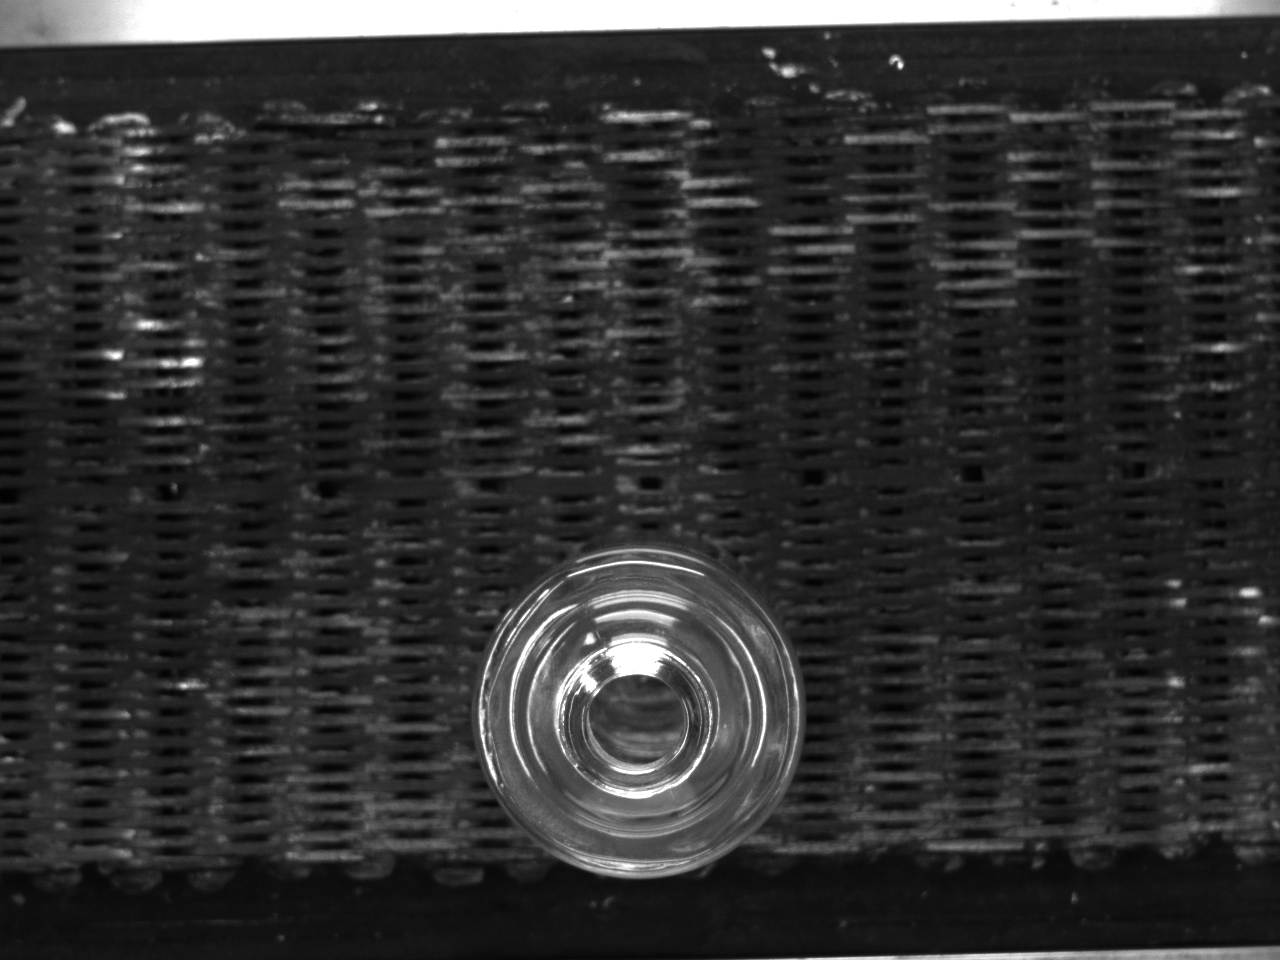bottleneck: (558, 643, 714, 798)
